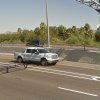Tree: (57, 22, 96, 45)
